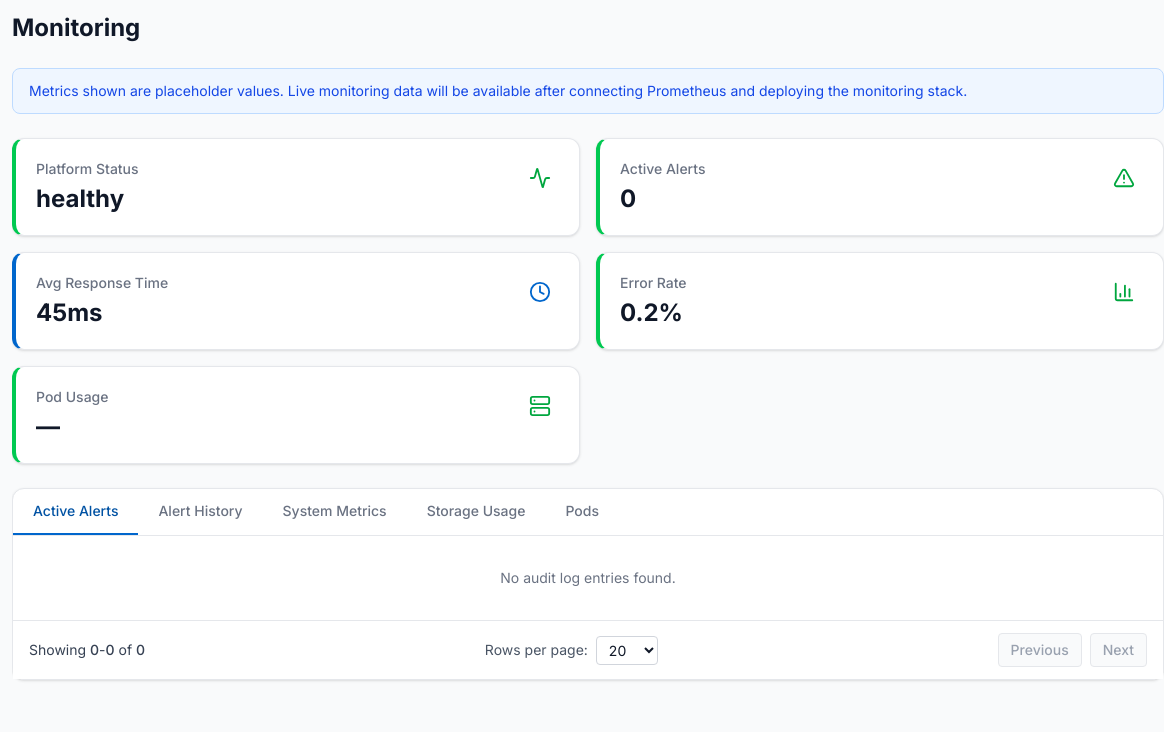
Monitoring Pods tab › shows the error state
Click the button with test id "tab-pods": click(582, 512) [545,489,619,535]
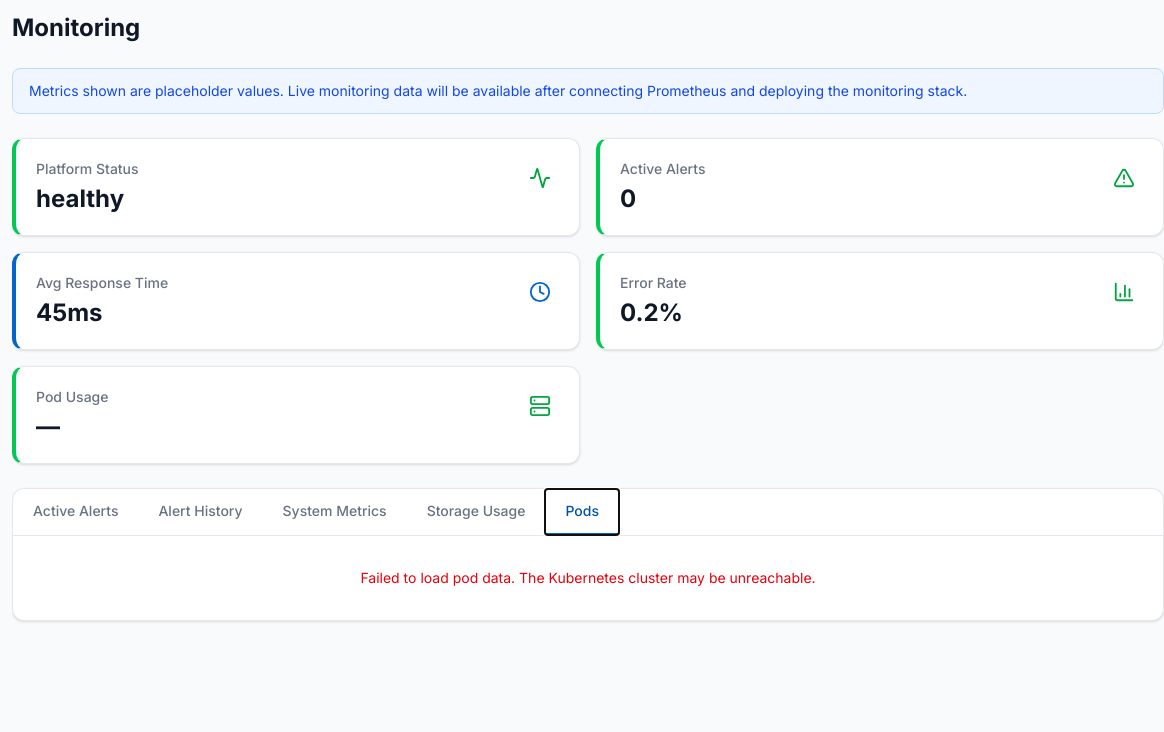
Now the text with test id "pods-error" is shown, box [360,569,816,586]
